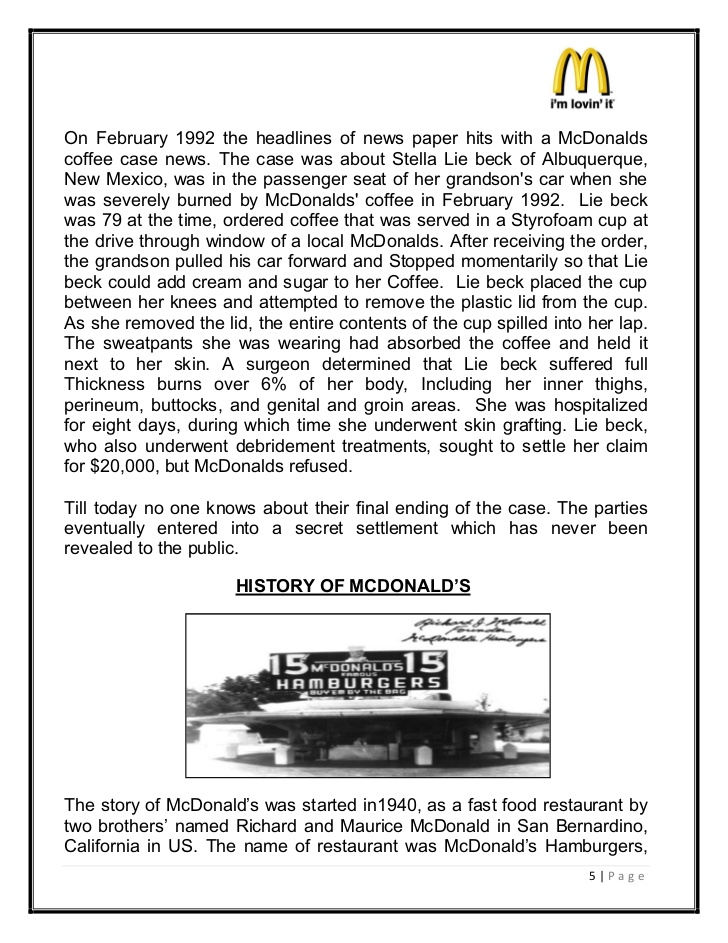mcdonalds: (544, 36, 618, 100)
